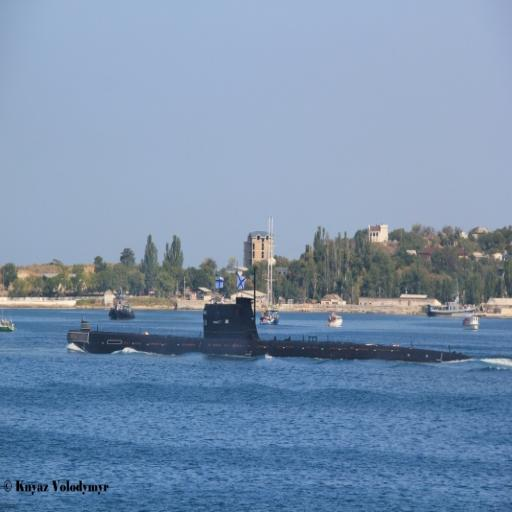submarine: (68, 301, 484, 364)
